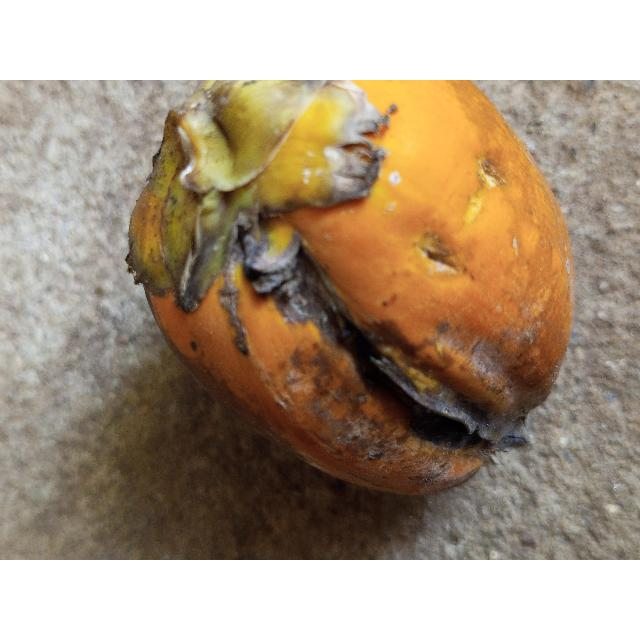damaged: (126, 80, 575, 498)
